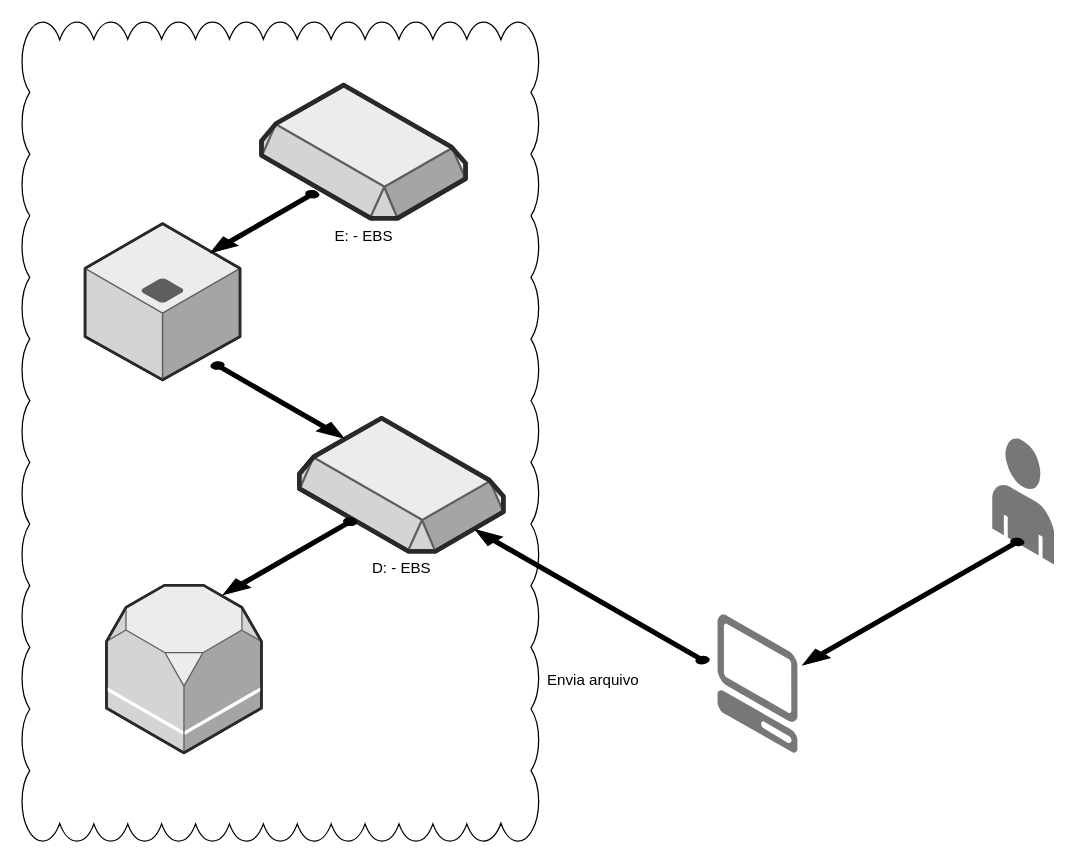
The diagram is 1076 pixels wide and 863 high, and some of its shapes have lost their labels. The centre of each missing label's shape, as x and y in pixels:
EC2: pixel 162 301
RDS: pixel 183 668
